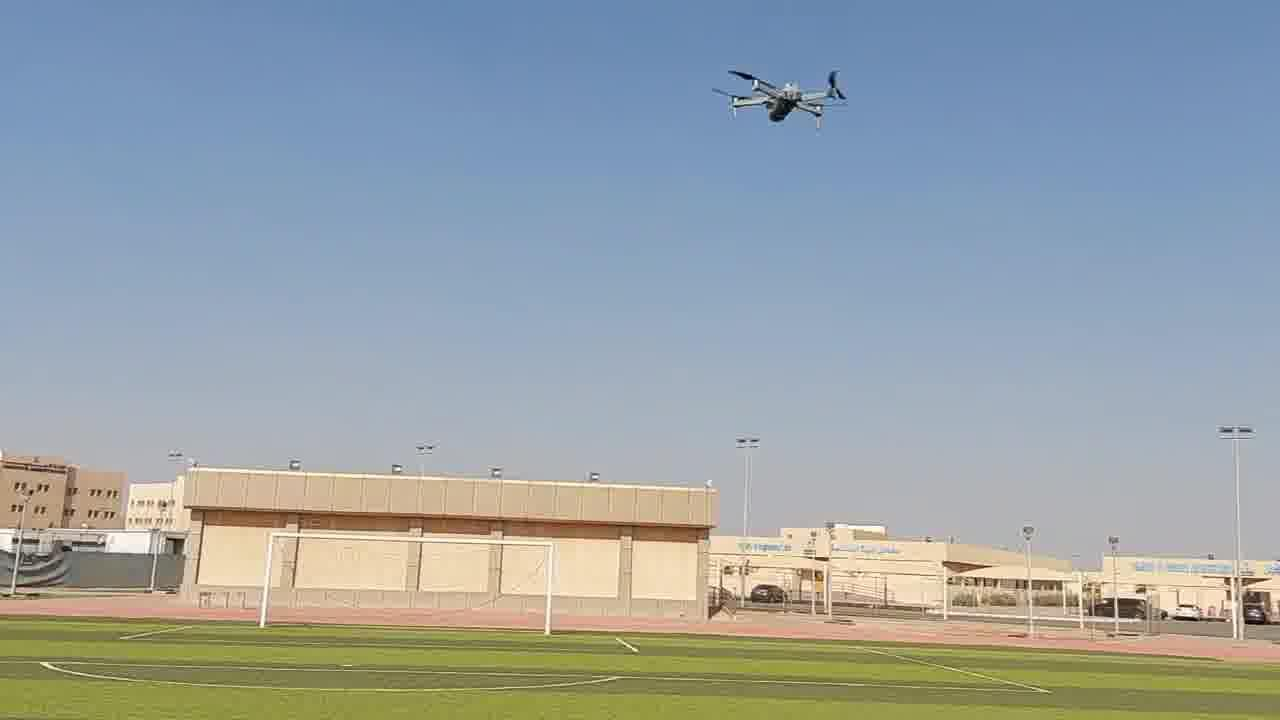drone: (705, 56, 856, 134)
